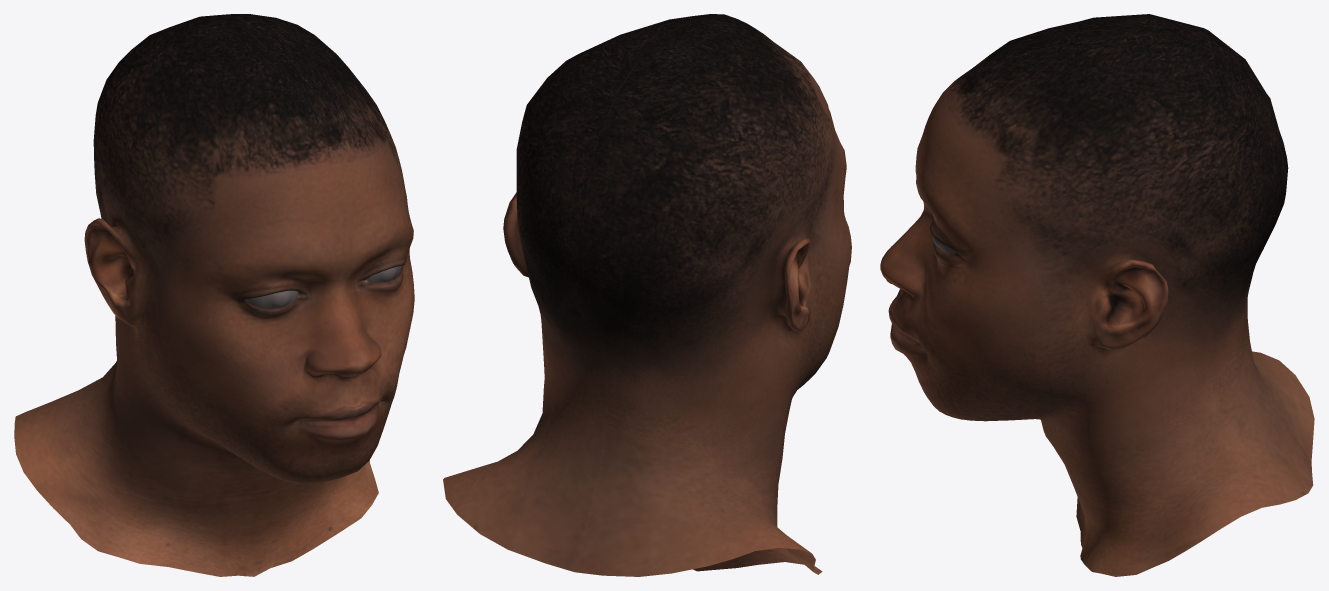
Rendered from human_eye.glb.
3 views of the same model, side by side, from view 1: azimuth 30°, elevation 25°; view 2: azimuth 150°, elevation 25°; view 3: azimuth 270°, elevation 25° (orthographic). The views are drawn at different scales.
Parts seen in each view (by area): view 1: HEAD_4, human.HighPolyEyes_7; view 2: HEAD_4; view 3: HEAD_4.
Part boxes in pixels (bbox=[...]): HEAD_4: bbox=[14, 14, 414, 576]; human.HighPolyEyes_7: bbox=[245, 266, 401, 307]; HEAD_4: bbox=[443, 14, 851, 576]; HEAD_4: bbox=[880, 14, 1314, 576].
Bounding box in the file's own units: 12.41 × 18.15 × 13.71.
Materials: 2 (1 with a texture image).
